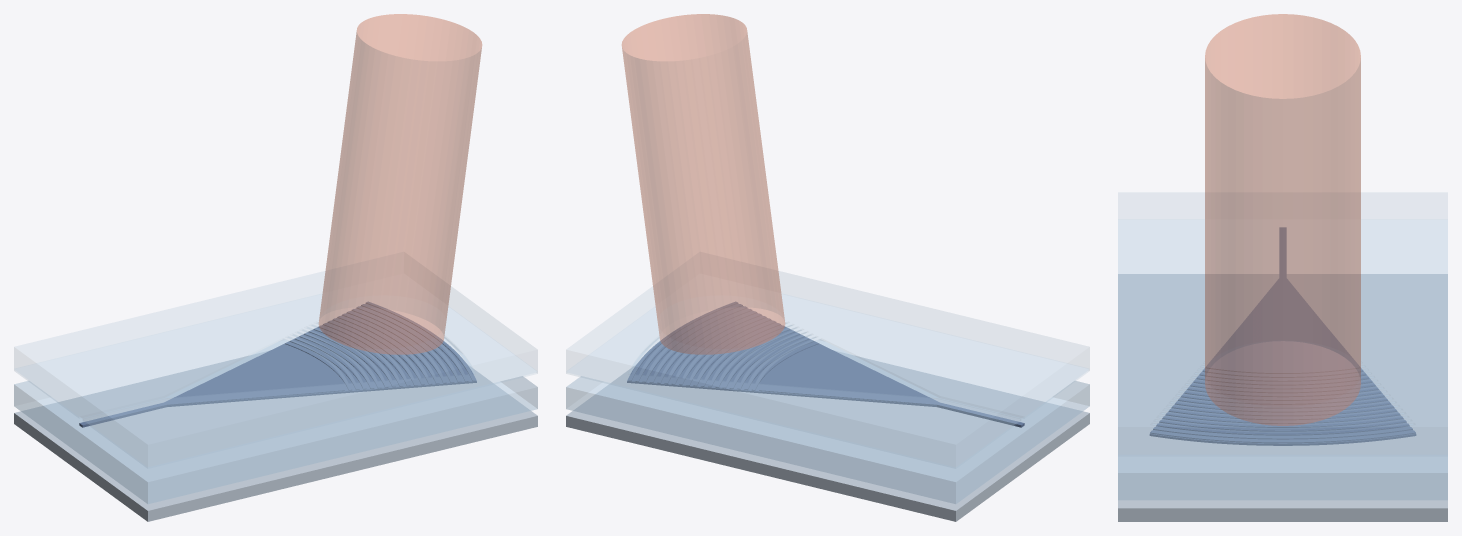
File: stack-gc-x.glb
3 renders of one model, left to right at view 1: azimuth 30°, elevation 25°; view 2: azimuth 150°, elevation 25°; view 3: azimuth 270°, elevation 25°, orthographic. The views are drawn at different scales.
Parts seen in each view (by area): view 1: cladd, sisub, beam, box, siwg; view 2: cladd, sisub, beam, box, siwg; view 3: beam, sisub, cladd, siwg, box.
Part boxes in pixels (bbox=[...]): cladd: bbox=[14, 271, 537, 468]; sisub: bbox=[14, 351, 537, 521]; beam: bbox=[318, 14, 482, 354]; box: bbox=[14, 323, 537, 503]; siwg: bbox=[79, 301, 476, 427]; cladd: bbox=[566, 271, 1089, 468]; sisub: bbox=[566, 351, 1089, 521]; beam: bbox=[621, 14, 785, 354]; box: bbox=[566, 323, 1089, 503]; siwg: bbox=[627, 301, 1024, 427]; beam: bbox=[1205, 14, 1360, 425]; sisub: bbox=[1118, 274, 1447, 521]; cladd: bbox=[1118, 193, 1447, 455]; siwg: bbox=[1149, 227, 1416, 445]; box: bbox=[1118, 362, 1447, 500].
Bounding box in the file's own units: 37.27 × 32.69 × 22.
